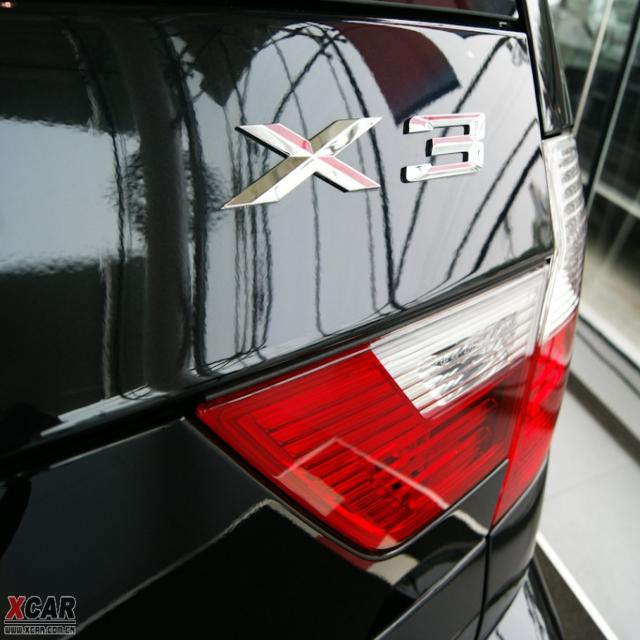back_right_side_light: (177, 122, 590, 569)
